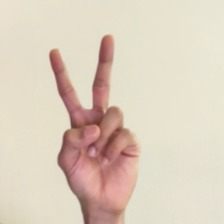V: (38, 30, 156, 224)
